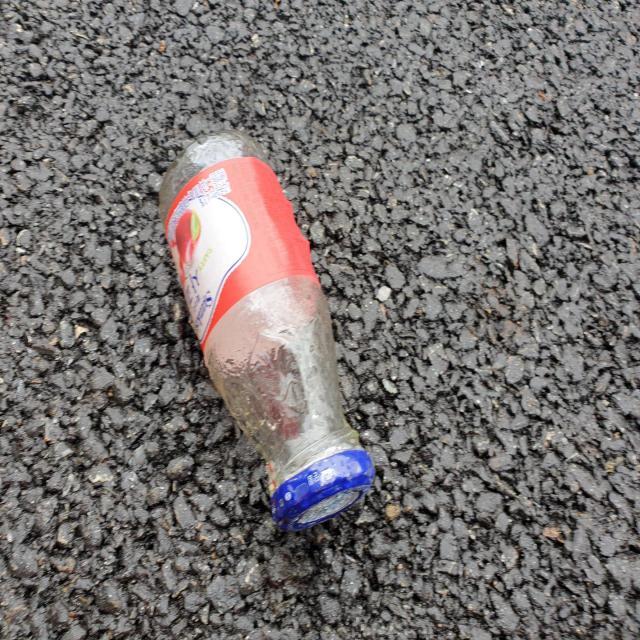glass: (159, 130, 375, 531)
